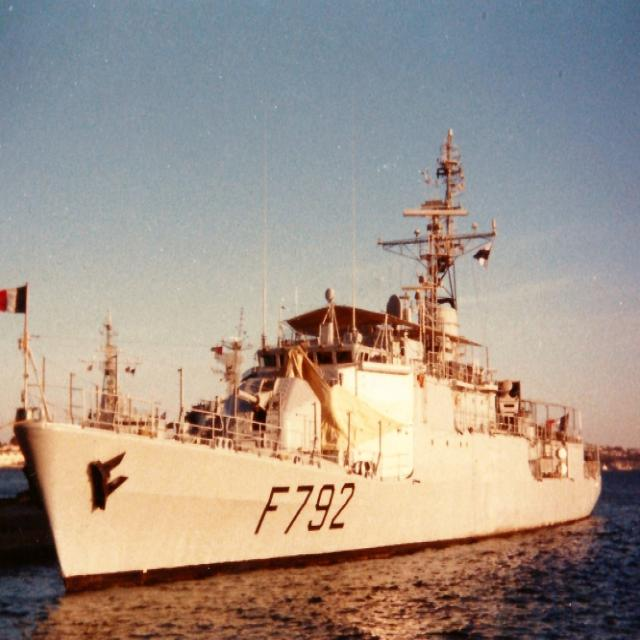Fragata: (6, 125, 610, 599)
